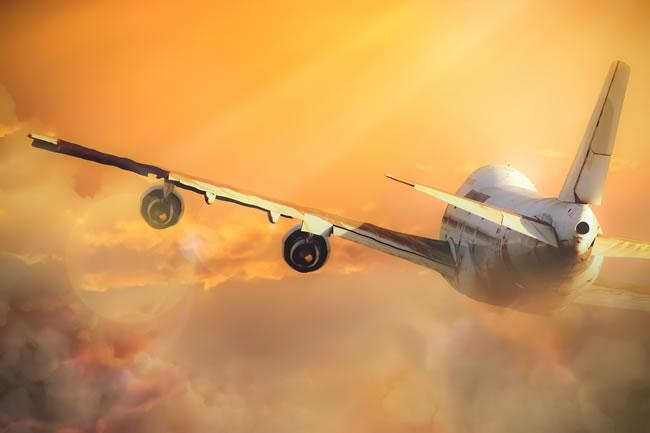airplane: (24, 57, 648, 313)
